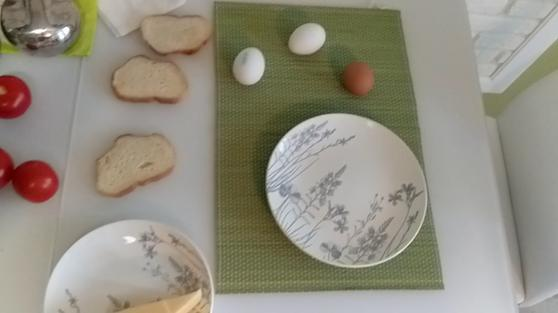egg: (287, 21, 327, 54), (232, 47, 264, 85), (343, 60, 373, 94)
tomato: (12, 158, 58, 203), (1, 76, 32, 118)
white_bread: (97, 132, 177, 197), (112, 54, 189, 103), (141, 13, 213, 54)
